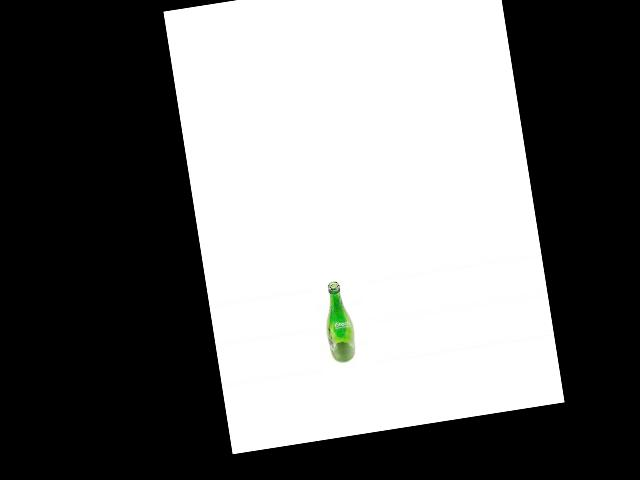beer: (318, 279, 359, 364)
